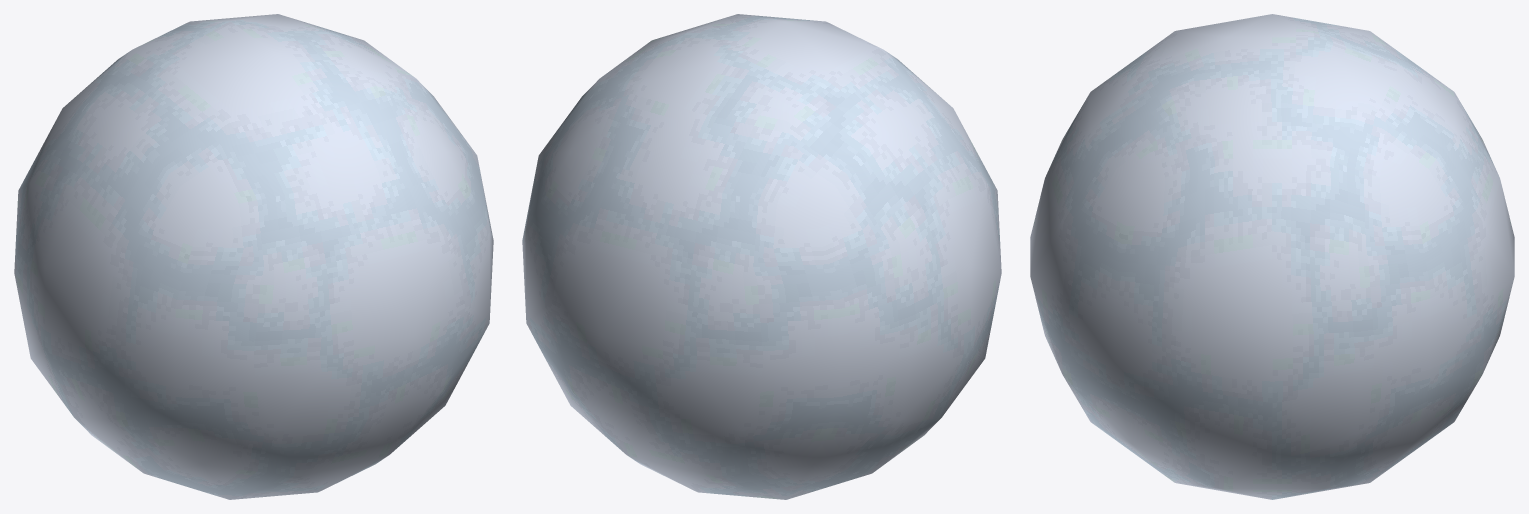
File: snowball.dae
The picture shows the model from 3 angles, left to right: view 1: azimuth 30°, elevation 25°; view 2: azimuth 150°, elevation 25°; view 3: azimuth 270°, elevation 25°; orthographic projection.
Parts seen in each view (by area): view 1: snowball; view 2: snowball; view 3: snowball.
Part boxes in pixels (x1,y1,x2,y2): snowball: (14,14,493,499); snowball: (522,14,1001,499); snowball: (1030,14,1514,499).
Size of the model in its own units: 31.61 by 31.61 by 31.61.
1 material, 1 textured.
